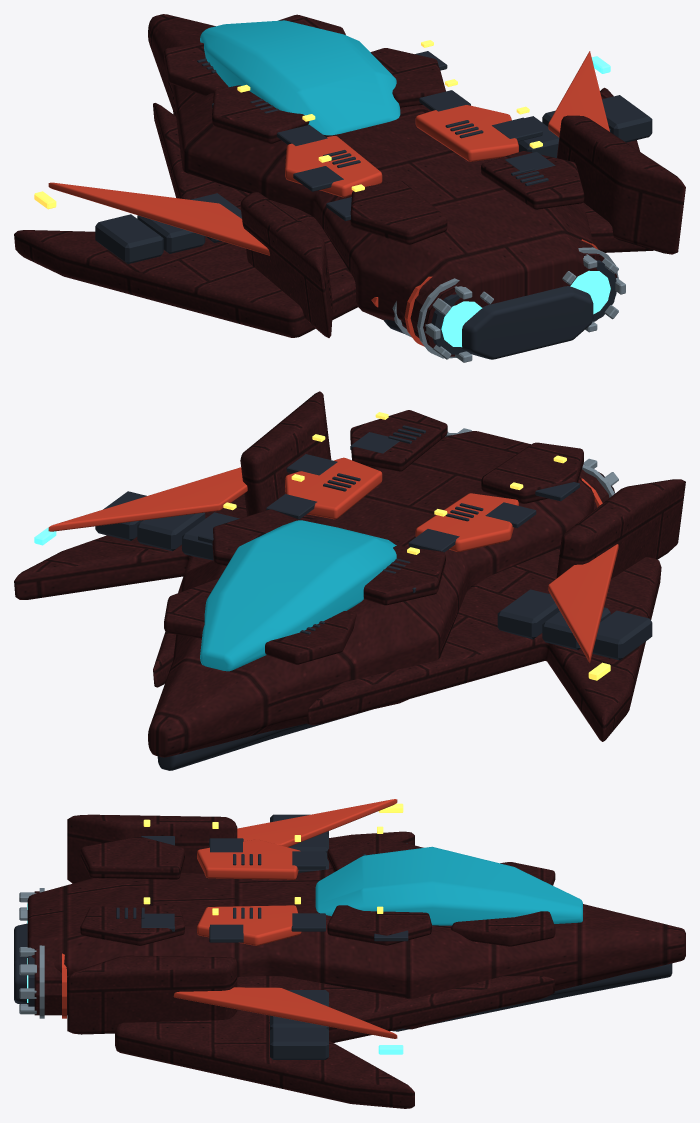
File: raptor.glb
3 renders of one model, top to bottom at view 1: azimuth 30°, elevation 25°; view 2: azimuth 150°, elevation 25°; view 3: azimuth 270°, elevation 25°, orthographic. The views are drawn at different scales.
Visible parts, largest first — view 1: Gôndola do motor.043 · exportação, Bocal do motor.043 · exportação, Cabine panorâmica.021 · exportação, Colar da turbina.130 · exportação, Aleta do bocal.351 · exportação, Núcleo propulsor.043 · exportação, Luz de serviço.175 · exportação; view 2: Gôndola do motor.043 · exportação, Cabine panorâmica.021 · exportação, Bocal do motor.043 · exportação, Colar da turbina.130 · exportação, Luz de serviço.175 · exportação, Aleta do bocal.351 · exportação; view 3: Gôndola do motor.043 · exportação, Cabine panorâmica.021 · exportação, Colar da turbina.130 · exportação, Bocal do motor.043 · exportação, Aleta do bocal.351 · exportação, Luz de serviço.175 · exportação.
Part boxes in pixels (x1,y1,x2,y2): Gôndola do motor.043 · exportação: [14, 14, 685, 356]; Bocal do motor.043 · exportação: [95, 51, 652, 359]; Cabine panorâmica.021 · exportação: [200, 20, 400, 135]; Colar da turbina.130 · exportação: [48, 51, 609, 346]; Aleta do bocal.351 · exportação: [392, 247, 625, 362]; Núcleo propulsor.043 · exportação: [441, 56, 610, 347]; Luz de serviço.175 · exportação: [34, 40, 542, 209]; Gôndola do motor.043 · exportação: [14, 391, 685, 757]; Cabine panorâmica.021 · exportação: [200, 520, 396, 671]; Bocal do motor.043 · exportação: [95, 425, 652, 770]; Colar da turbina.130 · exportação: [48, 457, 618, 662]; Luz de serviço.175 · exportação: [223, 412, 610, 680]; Aleta do bocal.351 · exportação: [445, 428, 618, 497]; Gôndola do motor.043 · exportação: [27, 814, 685, 1108]; Cabine panorâmica.021 · exportação: [315, 846, 582, 925]; Colar da turbina.130 · exportação: [62, 799, 397, 1038]; Bocal do motor.043 · exportação: [14, 814, 672, 1059]; Aleta do bocal.351 · exportação: [19, 888, 44, 1018]; Luz de serviço.175 · exportação: [143, 803, 403, 915].
Size of the model in its own units: 44.46 by 11.1 by 49.
7 materials, 1 textured.
